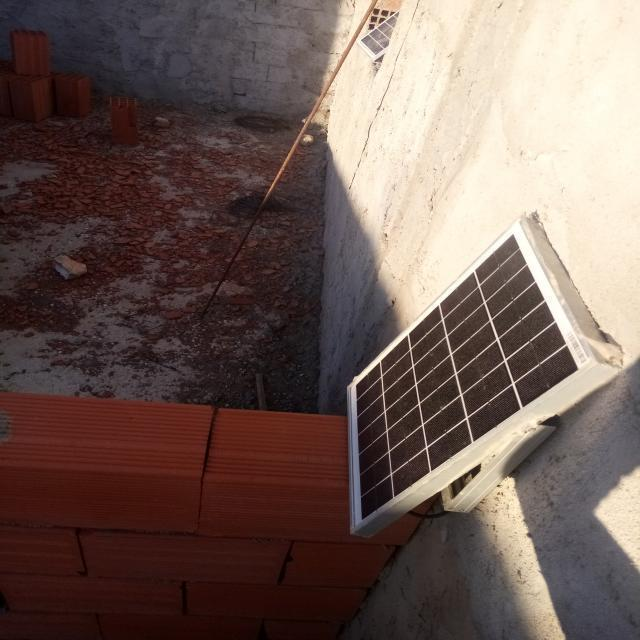Normal Solar Panel: (348, 223, 598, 533)
